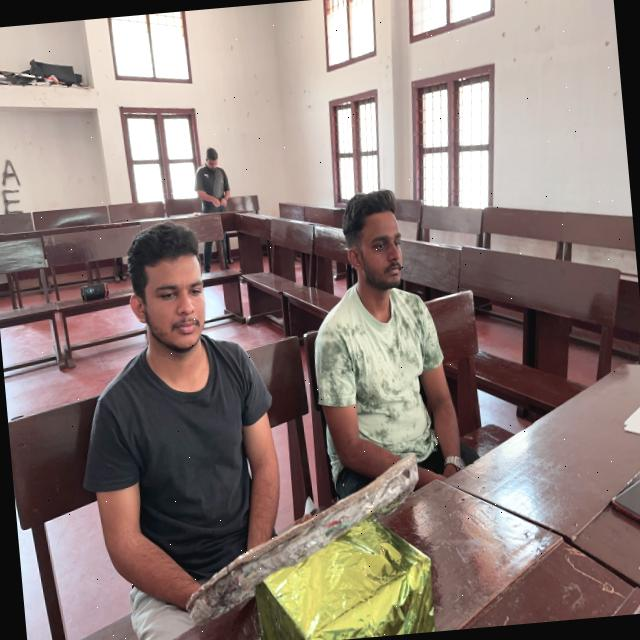Helmet: (76, 336, 303, 617), (309, 280, 469, 498)
